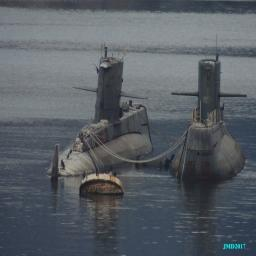submarine: (48, 47, 152, 178), (170, 48, 252, 178)
